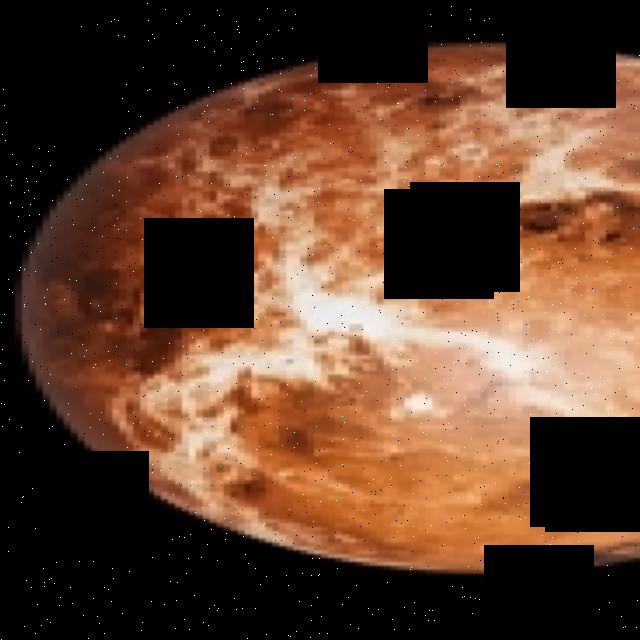Venus: (14, 35, 640, 578)
